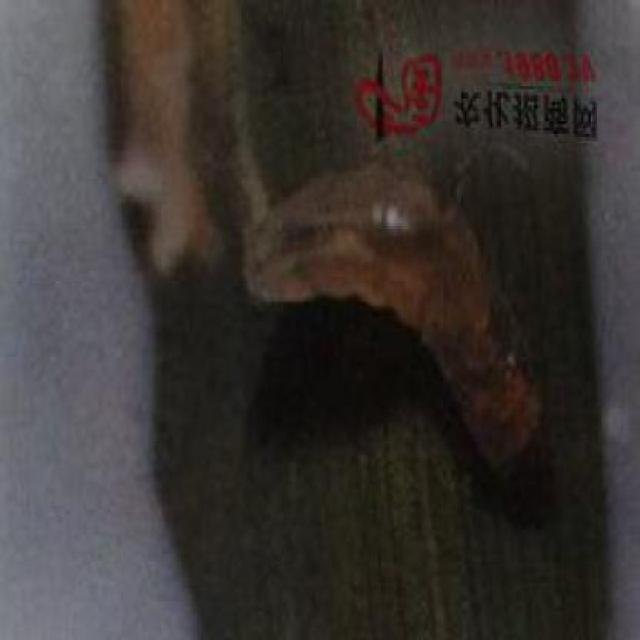whorl-maggot: (242, 167, 553, 486)
